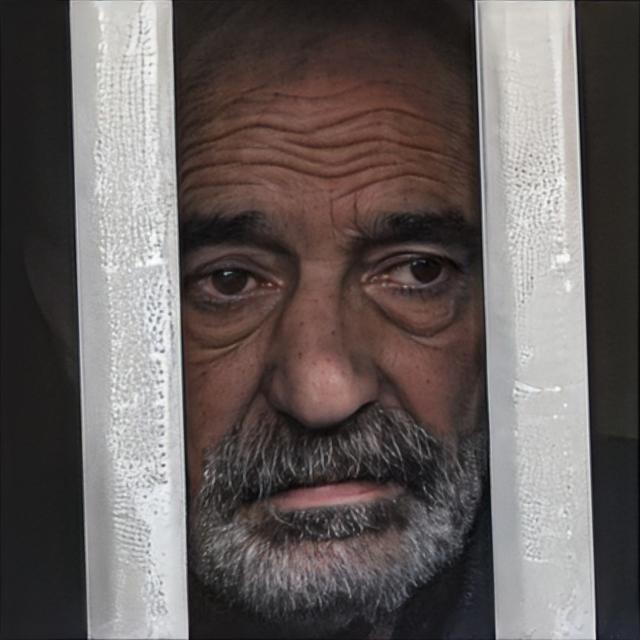sad: (180, 9, 492, 621)
